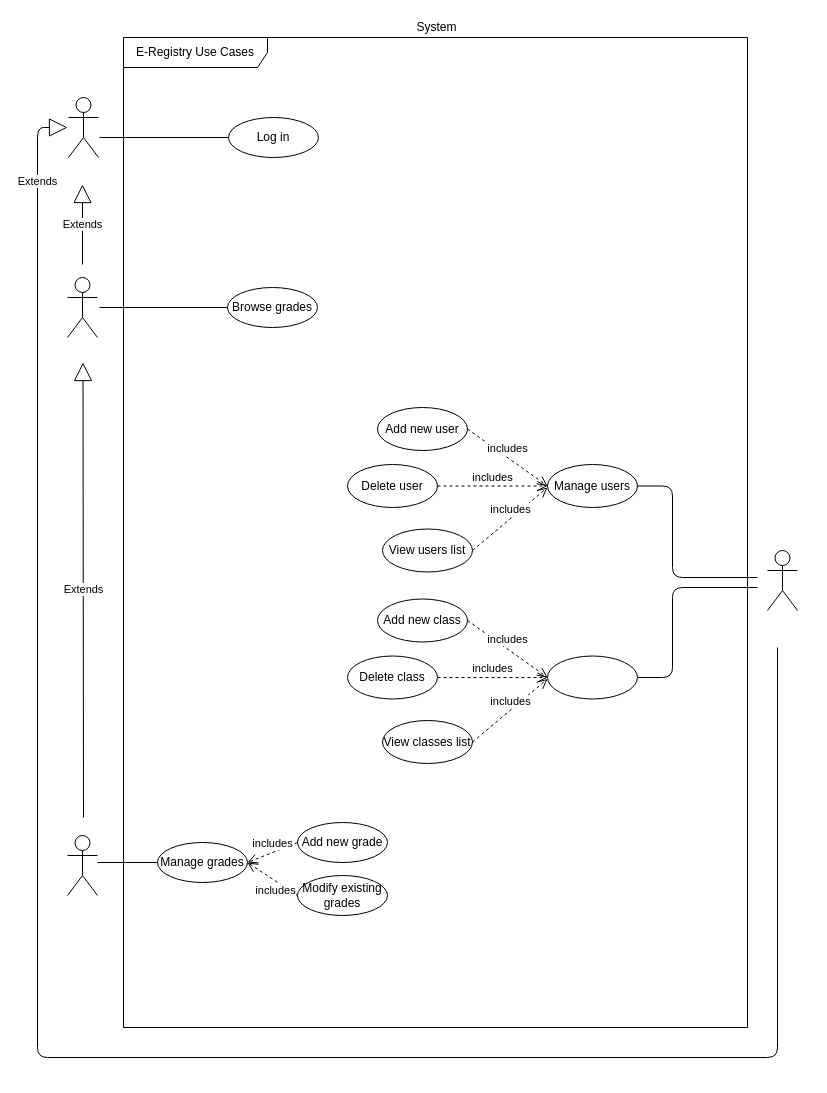
Image size: 827x1093. Some labels were removed from this diagram. Each missing label, with the centre of its shape:
Manage classes: pixel 592 677
Moderator: pixel 782 580
Pupil: pixel 82 307
Teacher: pixel 82 865
User: pixel 83 127
